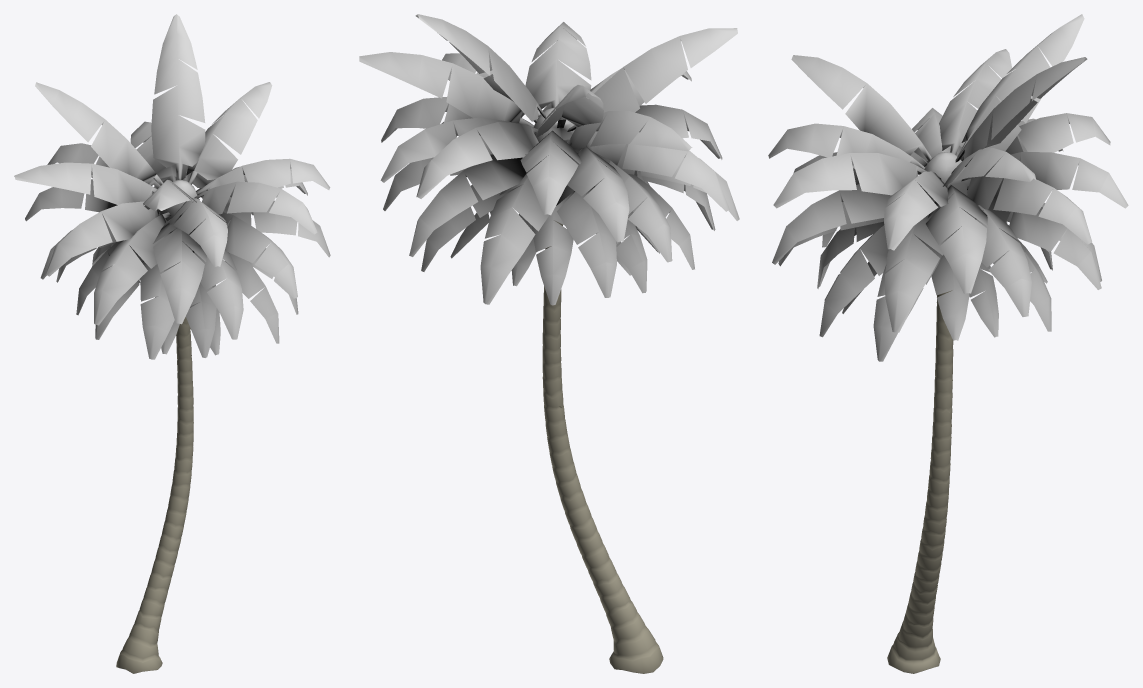
The model's file is ballpit_palmtree_g.fbx.
3 views of the same model, side by side, from view 1: azimuth 30°, elevation 25°; view 2: azimuth 150°, elevation 25°; view 3: azimuth 270°, elevation 25° (orthographic). The views are drawn at different scales.
Visible parts, largest first — view 1: Palm Tree G; view 2: Palm Tree G; view 3: Palm Tree G.
Boxes of the visible parts, x1,y1,x2,y2 form: Palm Tree G: (14,14,330,673); Palm Tree G: (359,14,739,673); Palm Tree G: (768,14,1128,673).
Size of the model in its own units: 9.5 by 18.69 by 9.13.
